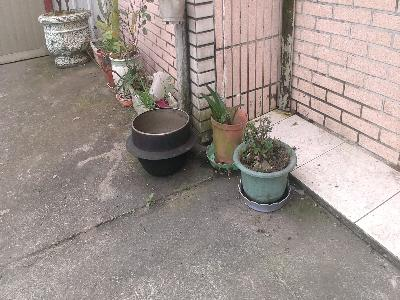bowl: (126, 107, 197, 177)
plate: (234, 175, 292, 213), (205, 139, 241, 172)
